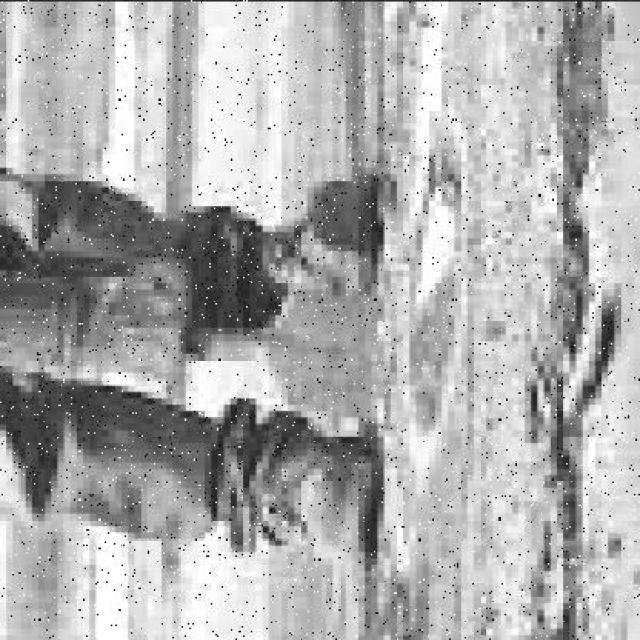shoes: (248, 429, 382, 569), (262, 181, 383, 299)
